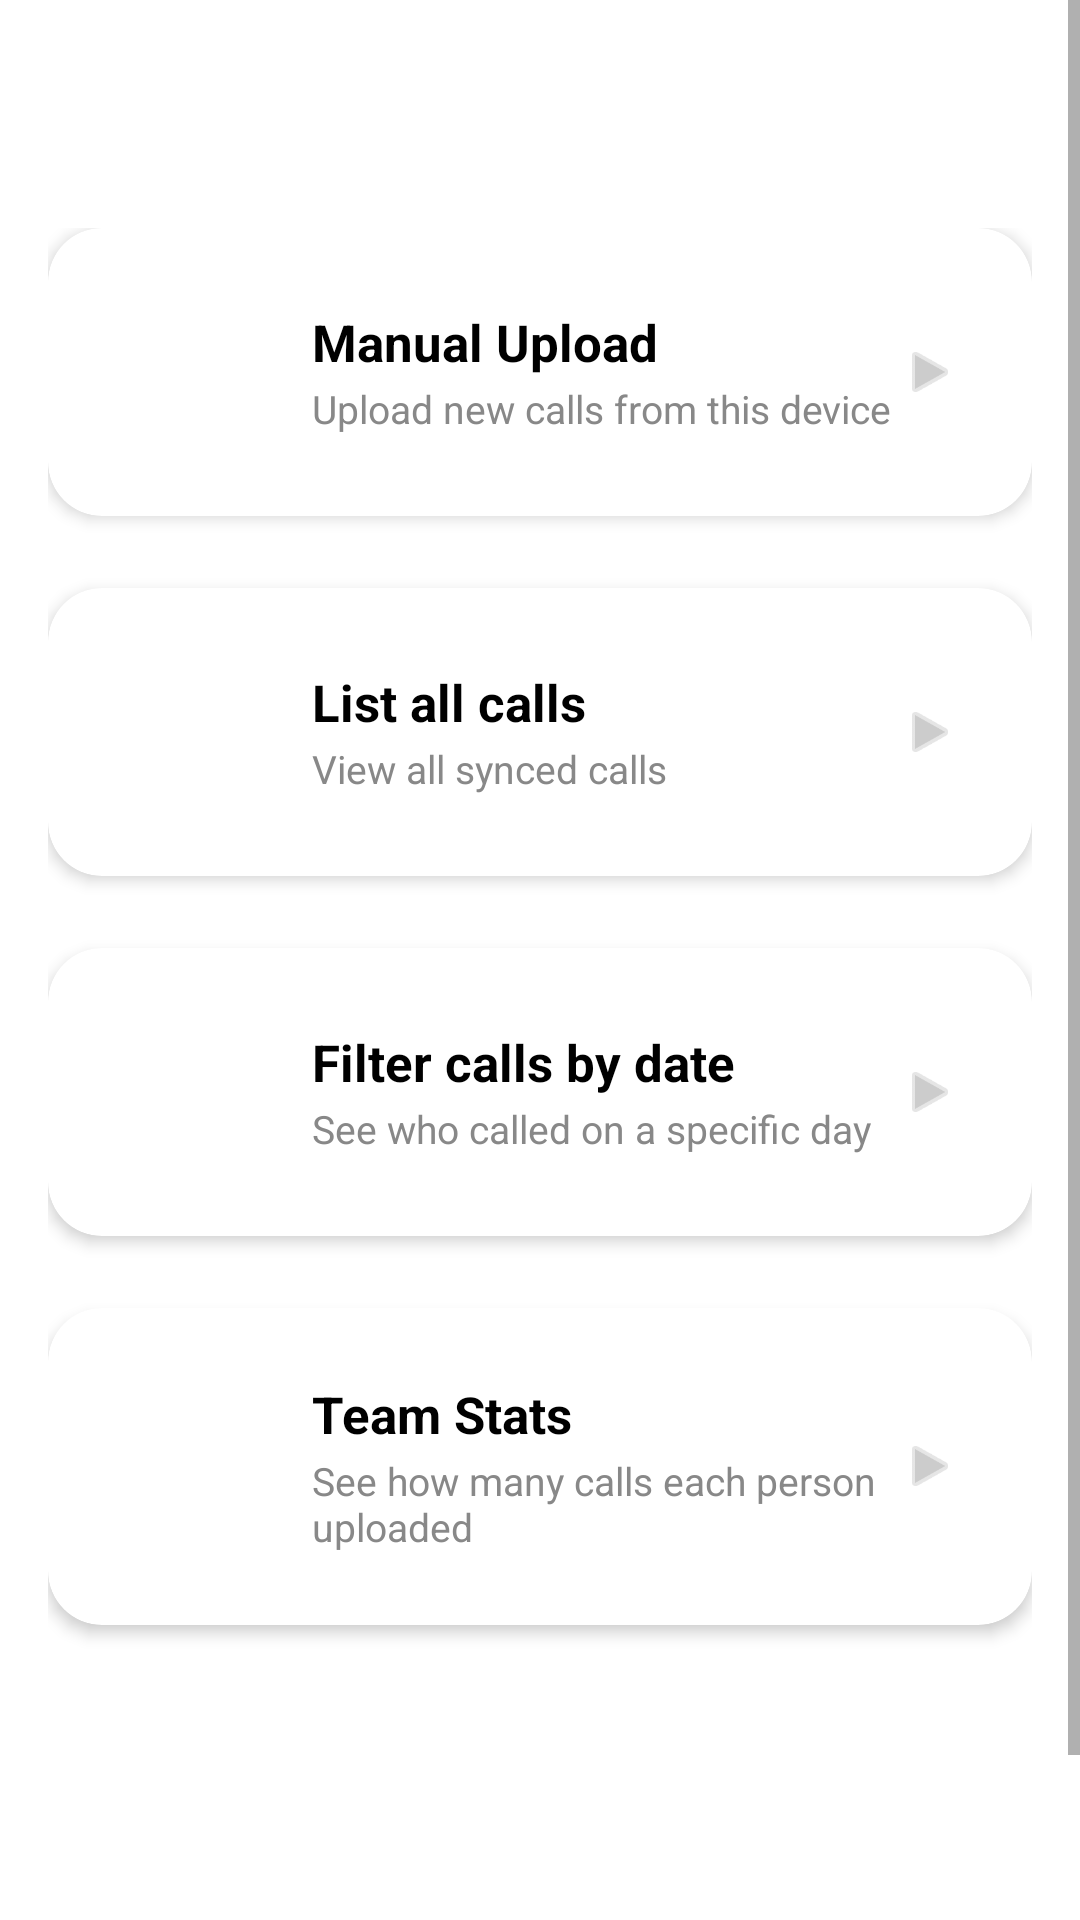

Screen size 1080 x 1920. Icon name, then its box in pixels as detection(x1, y1, x2, y2):
play: detection(912, 352, 948, 392), detection(912, 712, 948, 752), detection(912, 1072, 948, 1112), detection(912, 1446, 948, 1486)
